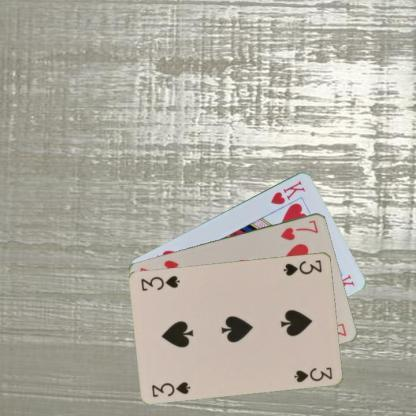3s: (280, 256, 324, 276), (150, 378, 192, 398)
7h: (277, 217, 320, 242)
Kh: (268, 178, 307, 206)
